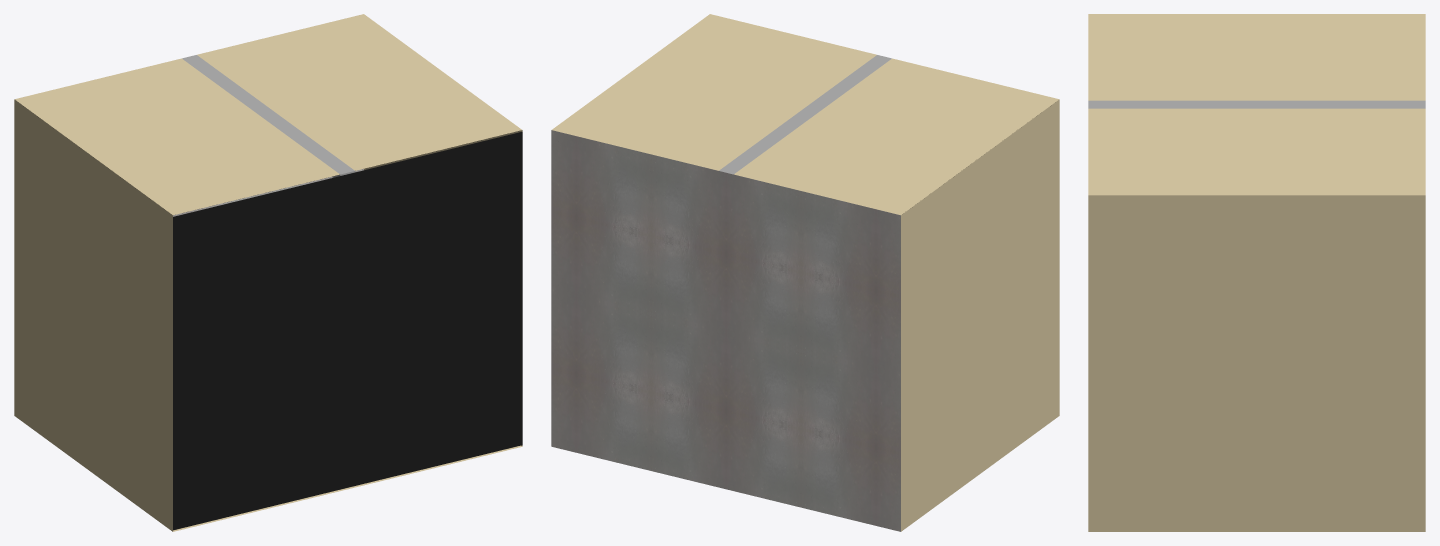
Rendered from sala.obj.
The picture shows the model from 3 angles, left to right: view 1: azimuth 30°, elevation 25°; view 2: azimuth 150°, elevation 25°; view 3: azimuth 270°, elevation 25°; orthographic projection. The views are drawn at different scales.
Parts seen in each view (by area): view 1: sala; view 2: sala; view 3: sala.
Boxes of the visible parts, x1=… form: sala: x1=14, y1=14, x2=522, y2=531; sala: x1=551, y1=14, x2=1059, y2=531; sala: x1=1088, y1=14, x2=1425, y2=531.
Bounding box in the file's own units: 7000 × 6060 × 5502.
